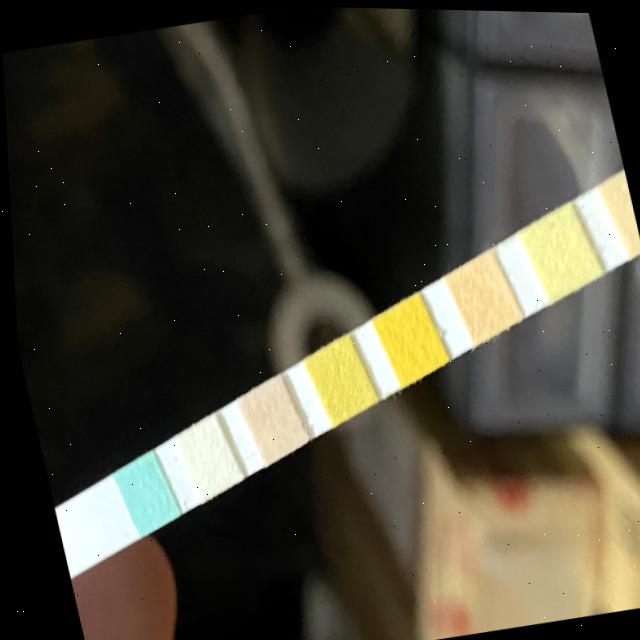Bilirubin: (176, 424, 227, 485)
Blood: (377, 301, 434, 367)
Glucose: (115, 459, 165, 521)
Ketone: (240, 383, 295, 450)
Protein: (524, 214, 587, 279)
SpGravity: (307, 343, 363, 407)
Urobilinogen: (608, 171, 638, 242)
pH: (450, 257, 508, 327)
